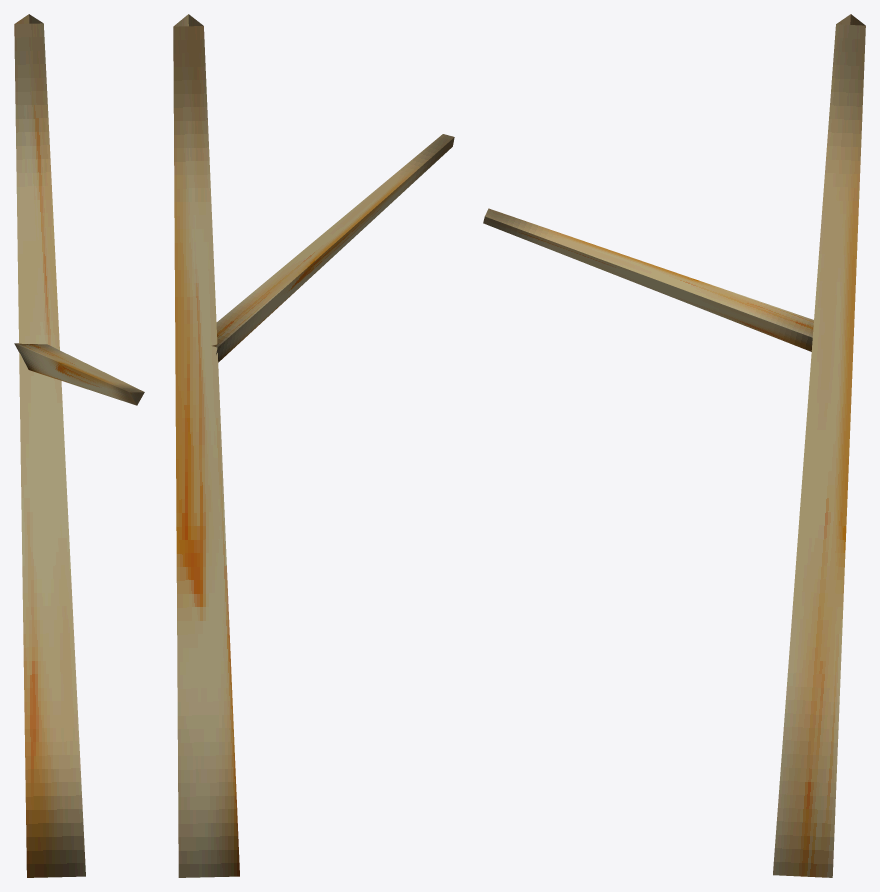
The model's file is Schiff_Kran_1271.glb.
The picture shows the model from 3 angles, left to right: view 1: azimuth 30°, elevation 25°; view 2: azimuth 150°, elevation 25°; view 3: azimuth 270°, elevation 25°; orthographic projection. The views are drawn at different scales.
Visible parts, largest first — view 1: pCylinderShape12, pCylinderShape13; view 2: pCylinderShape12, pCylinderShape13; view 3: pCylinderShape12, pCylinderShape13.
Part boxes in pixels (x1,y1,x2,y2): pCylinderShape12: [14, 14, 85, 877]; pCylinderShape13: [14, 343, 144, 405]; pCylinderShape12: [173, 14, 239, 877]; pCylinderShape13: [212, 134, 454, 362]; pCylinderShape12: [773, 14, 865, 877]; pCylinderShape13: [483, 208, 813, 351].
Size of the model in its own units: 0.3548 by 2.95 by 1.2.
2 materials, 2 textured.
